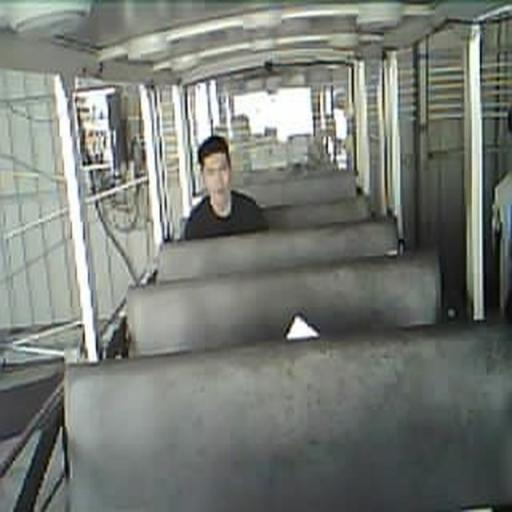persona: (180, 134, 270, 241)
